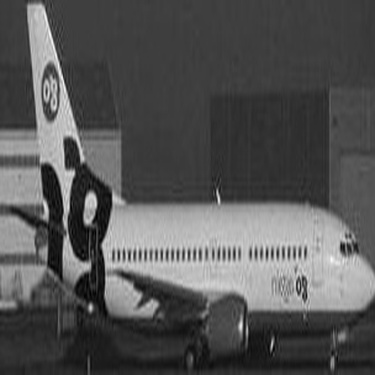airplane: (9, 9, 371, 371)
